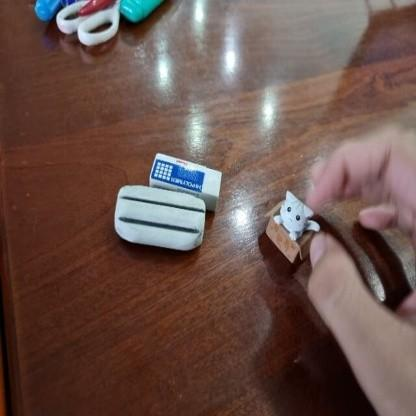not trash: (105, 180, 209, 258), (23, 0, 170, 46), (142, 150, 225, 204), (255, 192, 311, 257)
